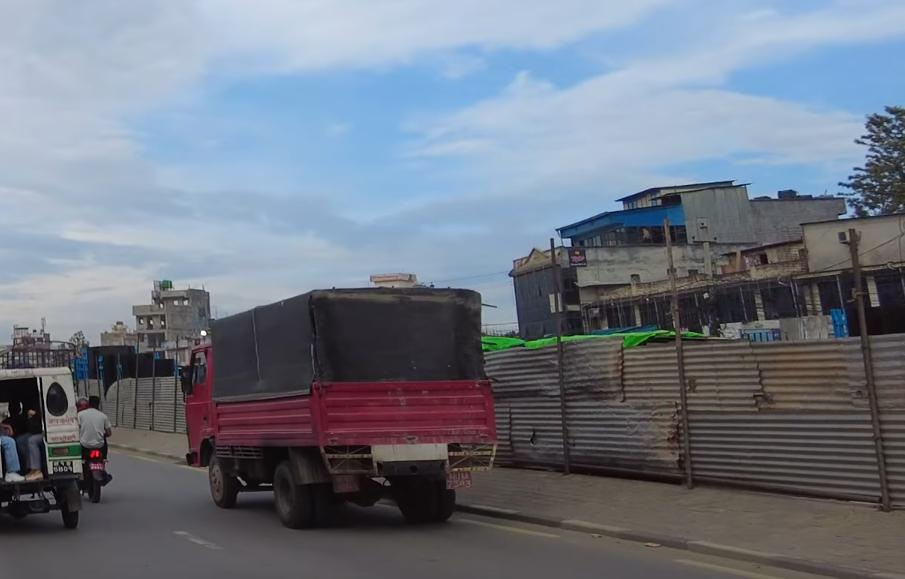bike: (80, 392, 114, 500)
mini_truck: (176, 278, 504, 531)
tempo: (0, 349, 82, 539)
